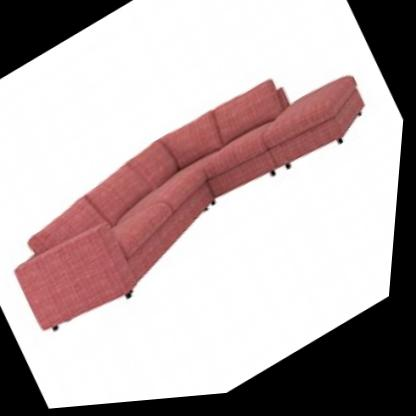Sofa: (0, 30, 398, 360)
